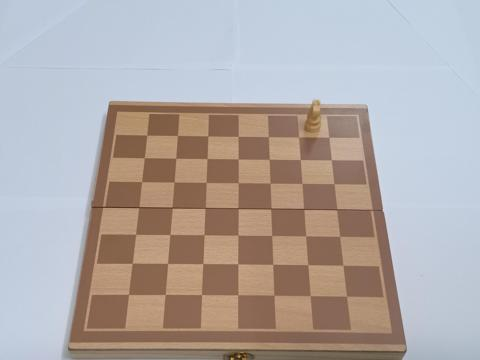xcorner: (143, 130, 153, 140), (137, 177, 147, 187), (167, 203, 177, 213), (199, 231, 209, 241), (234, 131, 244, 141), (234, 154, 244, 164), (298, 179, 308, 189), (140, 153, 150, 162), (134, 203, 144, 212), (131, 230, 140, 240), (172, 153, 181, 163), (162, 260, 172, 269), (160, 291, 169, 301), (204, 131, 214, 140), (198, 260, 207, 270), (196, 292, 206, 301), (234, 178, 243, 188), (234, 204, 243, 214), (234, 231, 243, 241), (233, 261, 243, 270), (233, 292, 243, 301), (265, 155, 275, 164), (266, 179, 276, 188), (267, 204, 276, 214), (269, 261, 278, 271), (270, 292, 279, 302), (295, 132, 304, 142), (296, 155, 306, 164), (302, 232, 311, 242), (304, 261, 313, 271), (306, 293, 316, 302), (325, 133, 335, 142), (328, 155, 337, 165), (330, 180, 340, 189), (333, 205, 342, 215), (339, 262, 349, 271), (343, 293, 352, 303), (127, 260, 136, 269), (123, 291, 132, 300), (174, 131, 183, 140), (170, 178, 179, 187), (165, 231, 174, 240), (203, 154, 212, 163), (202, 178, 211, 187), (201, 204, 210, 213), (265, 132, 274, 141), (268, 232, 277, 241), (300, 205, 309, 214), (336, 233, 345, 242)
